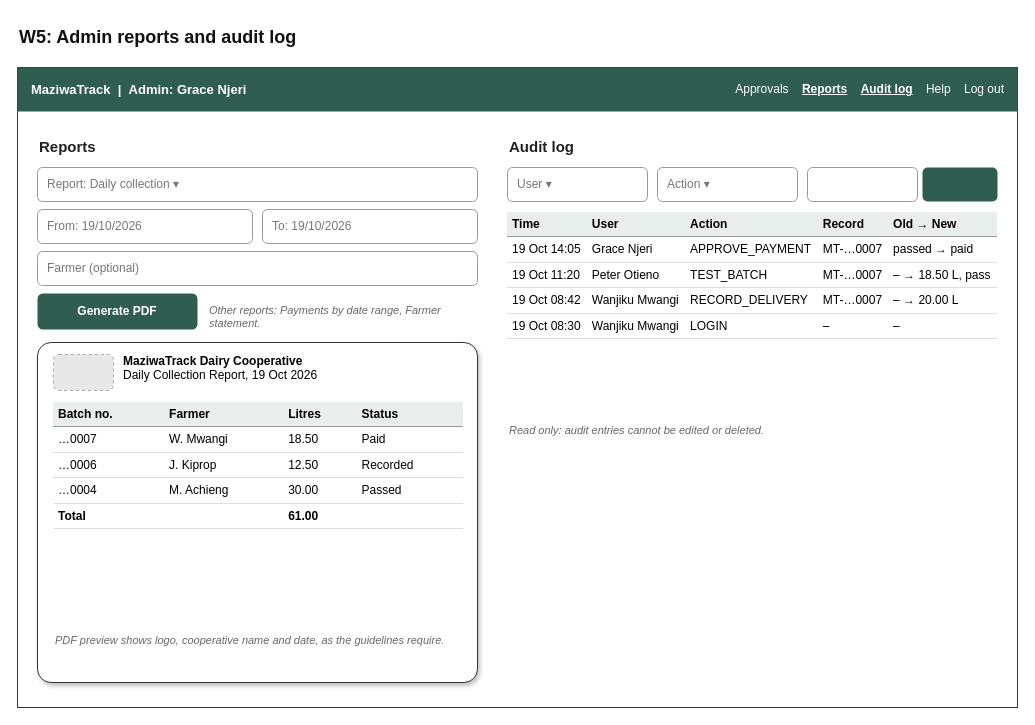
Some shapes in this 1035 by 725 pixel diagram are drawn without their labels. Each missing label, with the centre of its shape:
"Date" goes at (862,184).
"Filter" goes at (959,184).
"LOGO" goes at (83,372).
